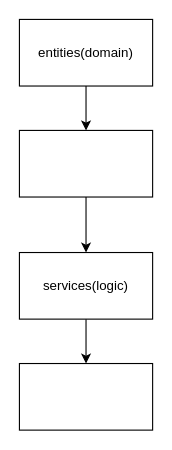
Image size: 172x450. Some labels were removed from this diagram. Here are the shapes that lost their labels. From the top down, the centre of each, then its label:
At [85,163]: "repositories(infra)".
At [85,396]: "entrypoints (application)".
